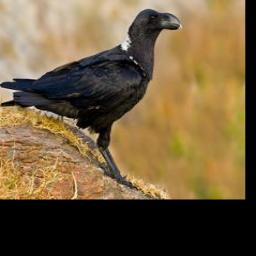Crow: (0, 8, 183, 190)
